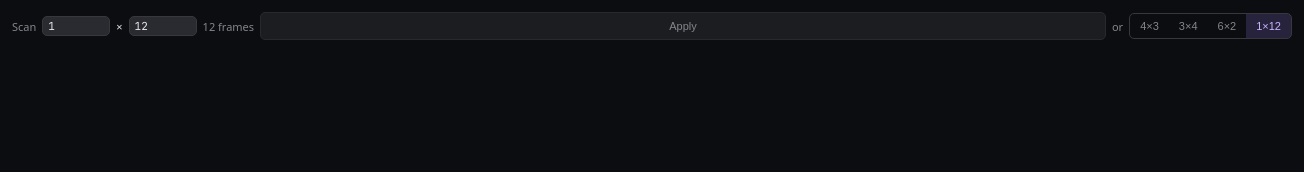
Test: FourDScanShape › applies a suggested factorisation in one click
What coordinates should you click on to do the following:
click the button "4×3"
I would click on:
 (1149, 26)
Its box is 1130,14 -> 1169,38.
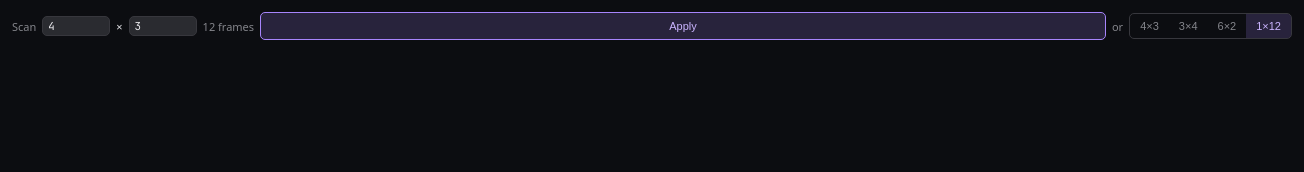
expect the number field named "Scan rows" holds "4": met, box 42,16 -> 110,36
expect the number field named "Scan columns" holds "3": met, box 129,16 -> 197,36
